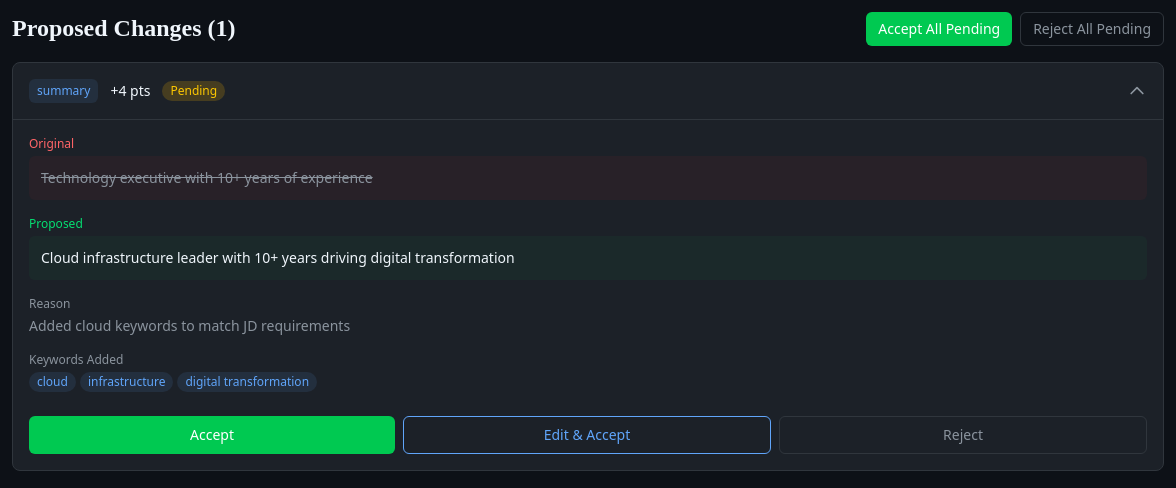
Test: ChangePreviewPanel › Reject Flow › shows feedback input when Reject is clicked
Click the button "Reject" at (963, 435), box [779,416,1147,454]
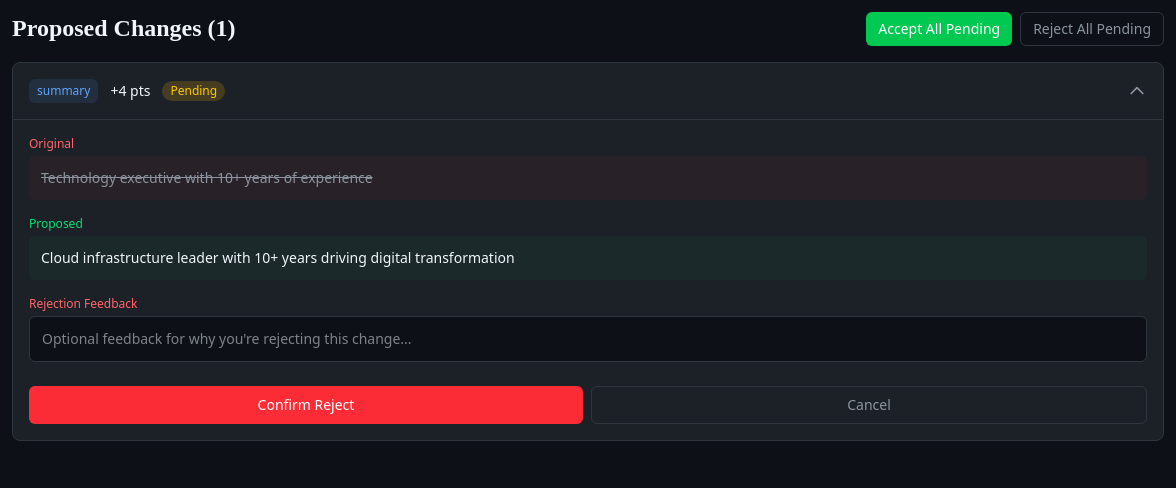
expect the field with placeholder "Optional feedback for why you're rejecting this change..." is shown: met, box [29,316,1147,362]
